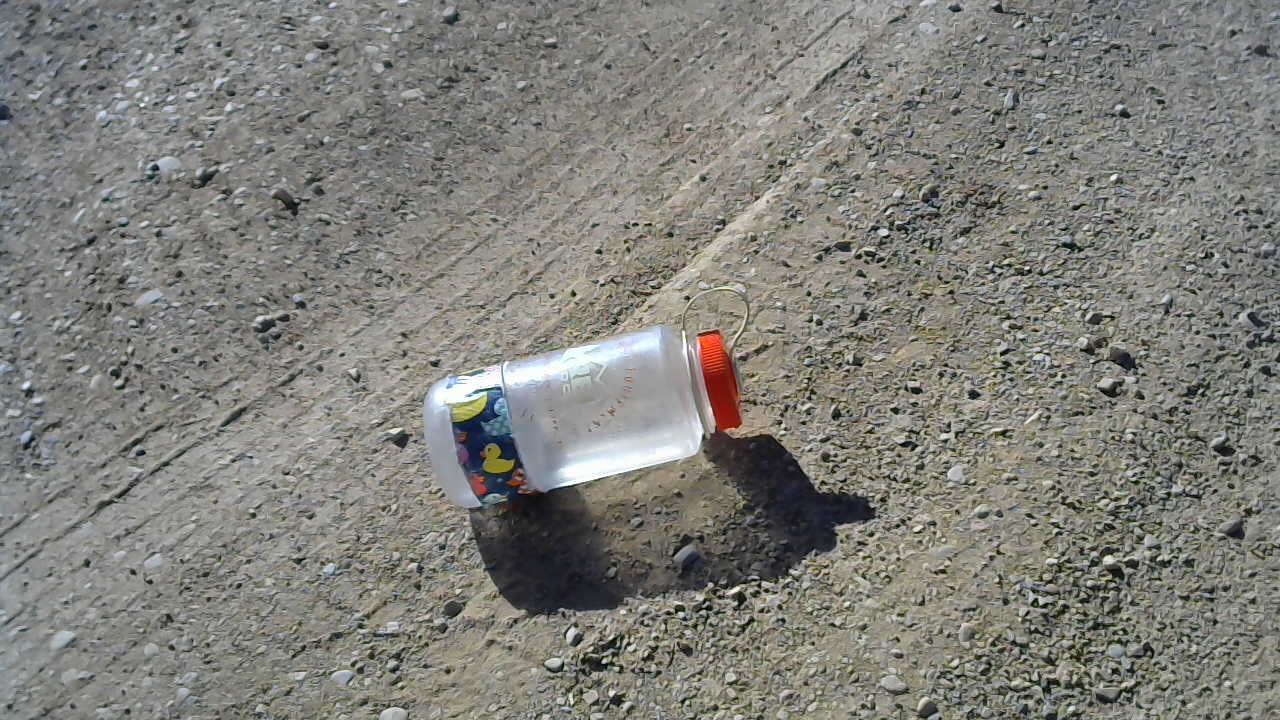bottle: (417, 282, 762, 519)
